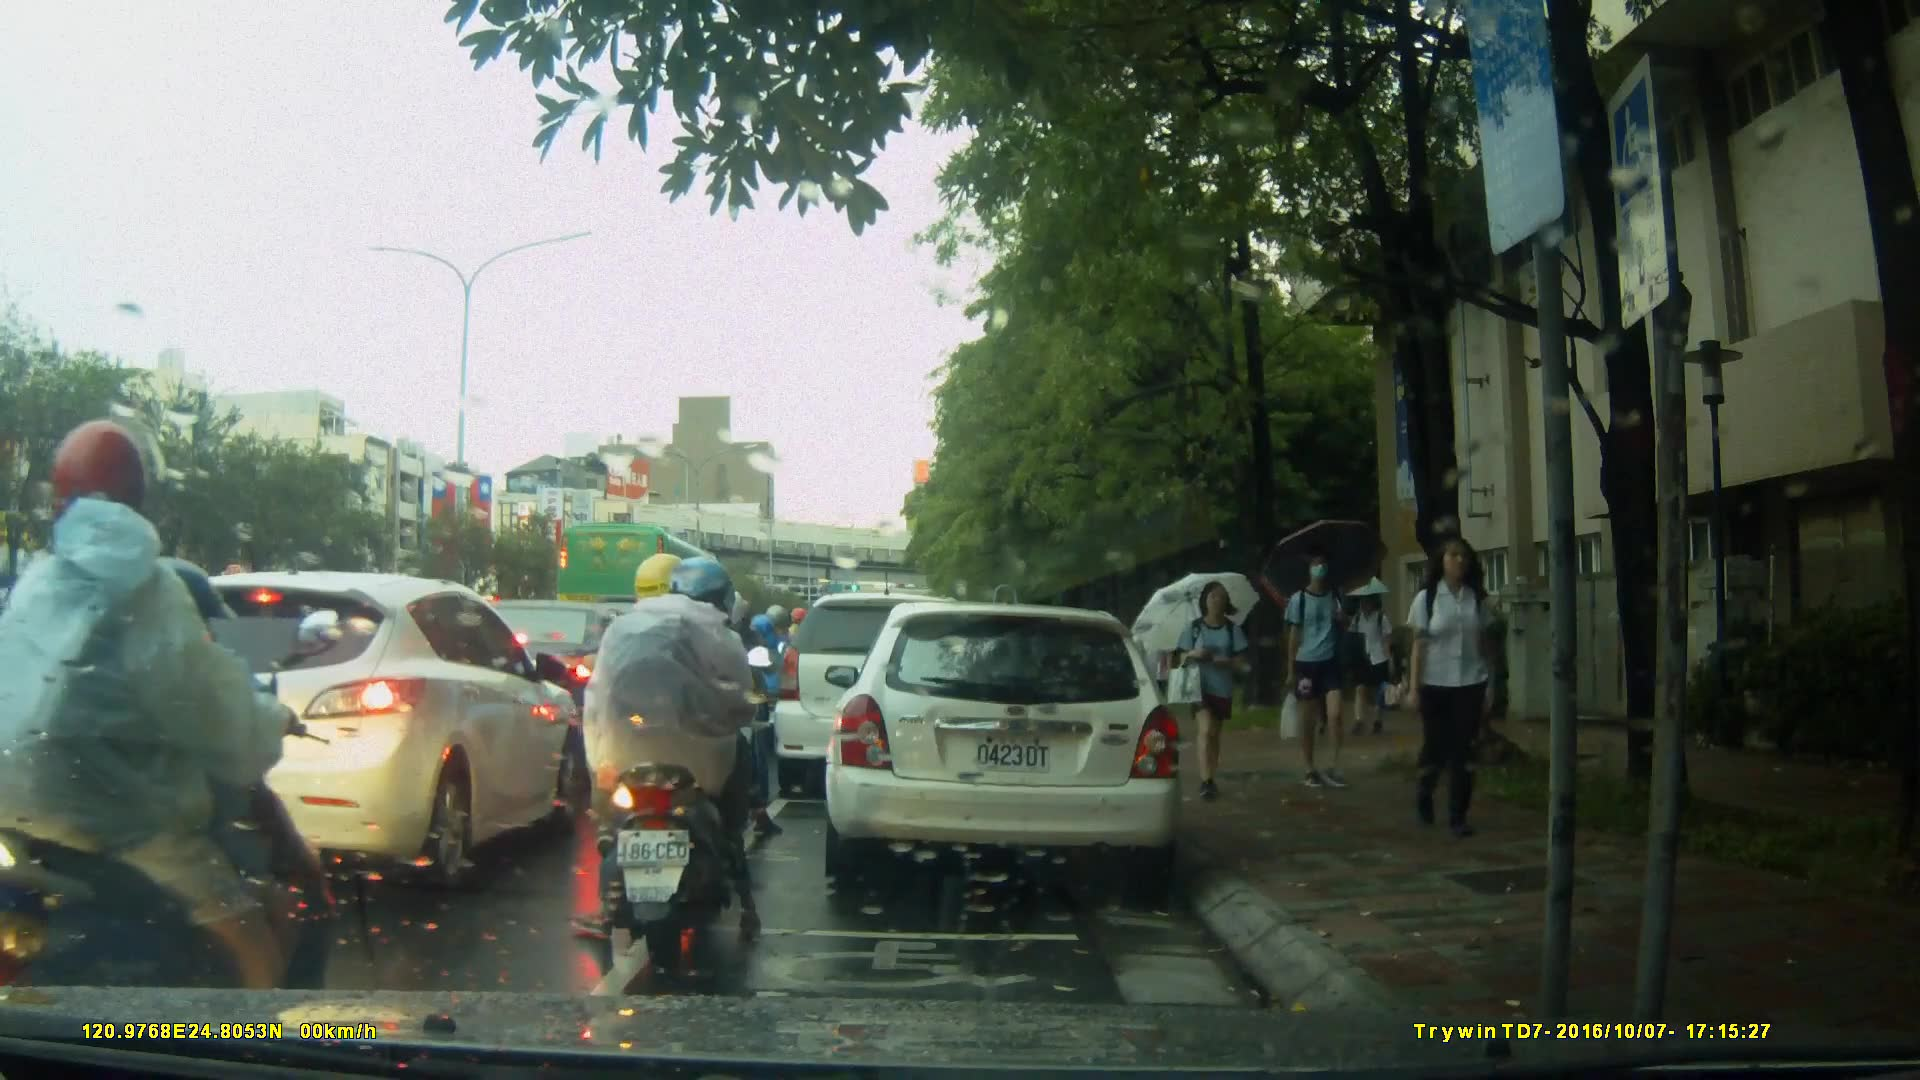pedestrian: (1393, 530, 1513, 848), (1273, 551, 1357, 798), (1174, 579, 1248, 802), (1133, 604, 1174, 741)
rider: (1, 416, 371, 1065), (566, 553, 780, 949), (649, 581, 760, 831), (737, 599, 797, 748)
vehicle: (93, 569, 588, 883), (822, 604, 1186, 882), (774, 595, 995, 802), (554, 519, 739, 666)
